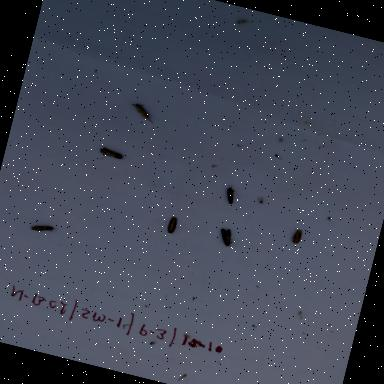pbw: (17, 209, 68, 246), (124, 96, 165, 130), (211, 176, 246, 213), (149, 207, 186, 240), (91, 140, 127, 166), (214, 224, 237, 250), (286, 225, 308, 248)
